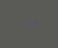one: (18, 20, 24, 28)
seven: (26, 20, 32, 27)
three: (33, 19, 39, 27)
